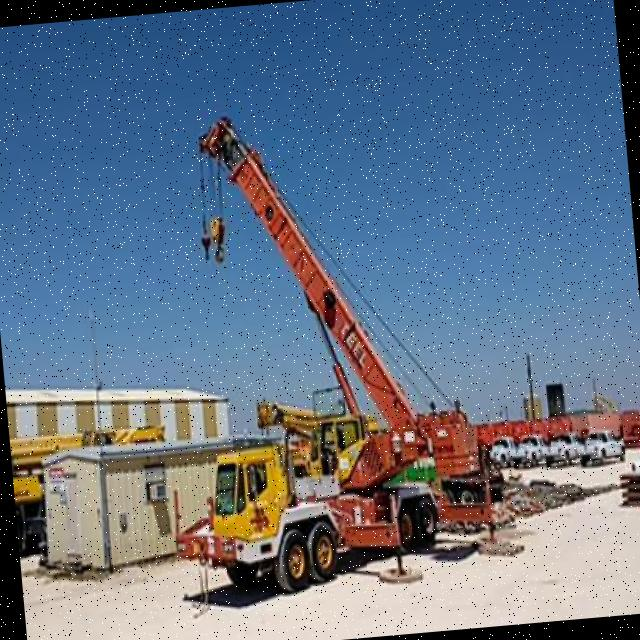Mobile Crane: (137, 94, 500, 600)
